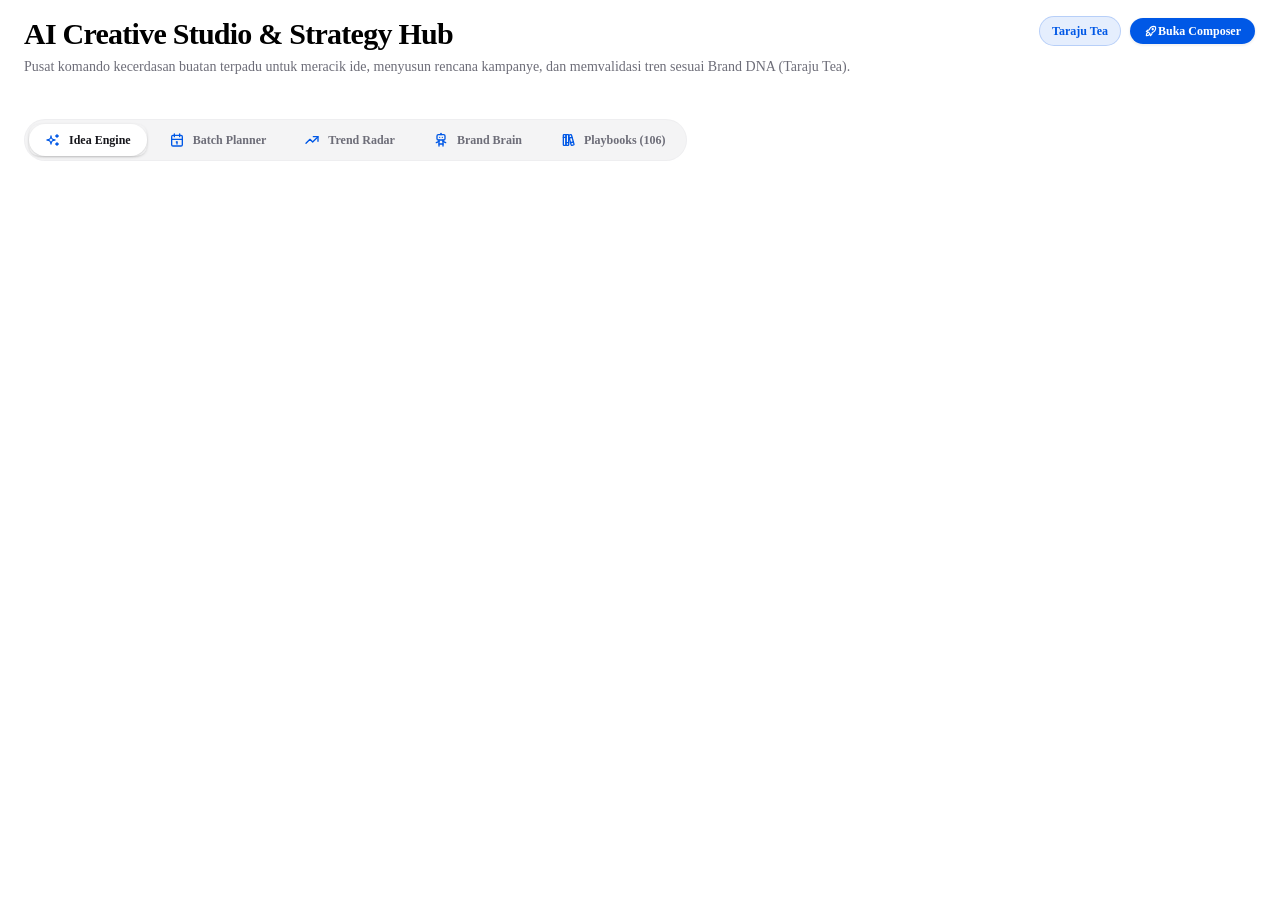
Test: AiStudioClient › switches to Batch Planner tab and displays campaign planning controls
Click the tab "Batch Planner".
click(218, 140)  # box [153, 124, 282, 156]
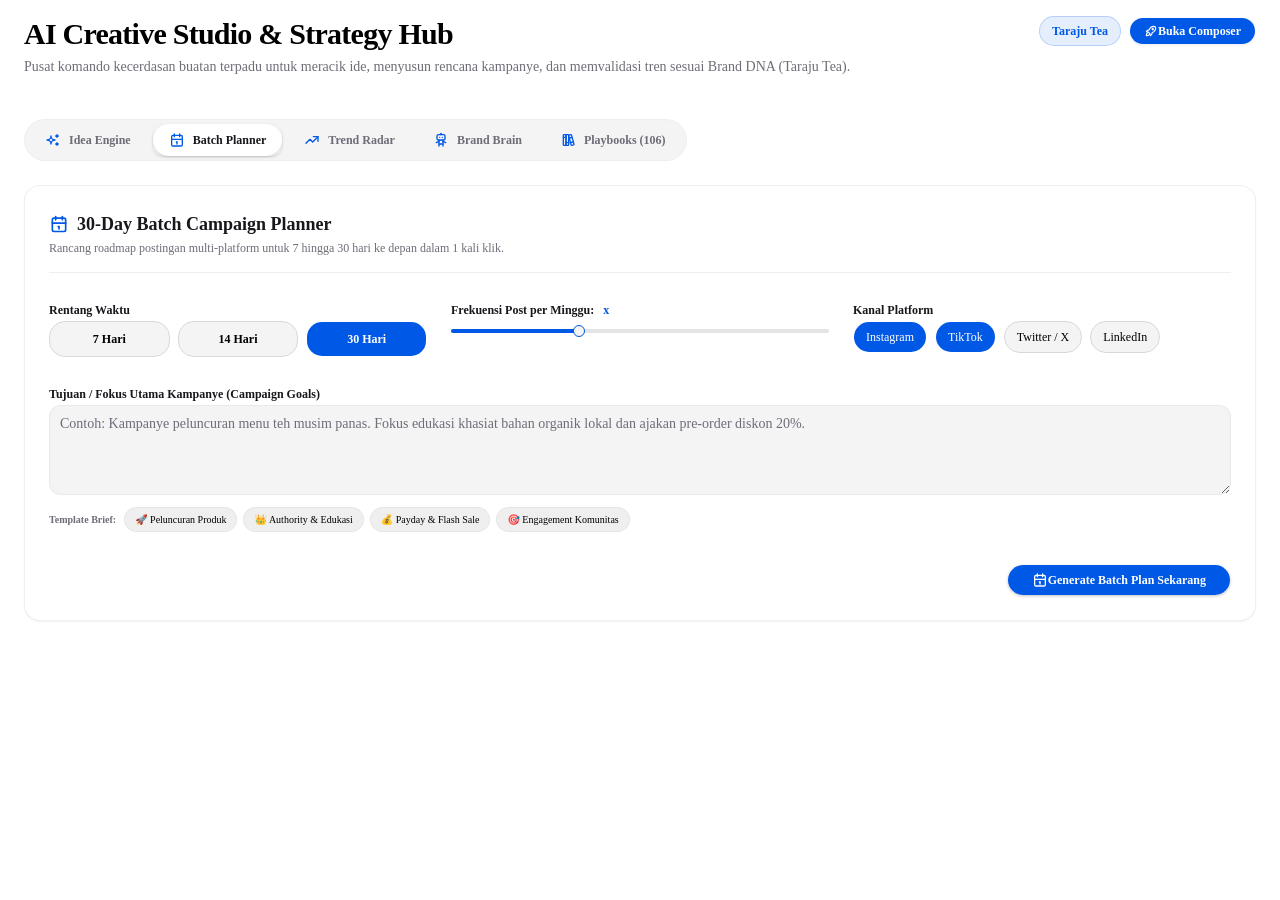
Check: the heading "30-Day Batch Campaign Planner" is shown, box [49, 214, 332, 234]
Check: the text box with placeholder "Kampanye peluncuran menu teh musim panas" is shown, box [49, 405, 1231, 495]
Check: the button "Generate Batch Plan Sekarang" is shown, box [1007, 564, 1231, 596]
